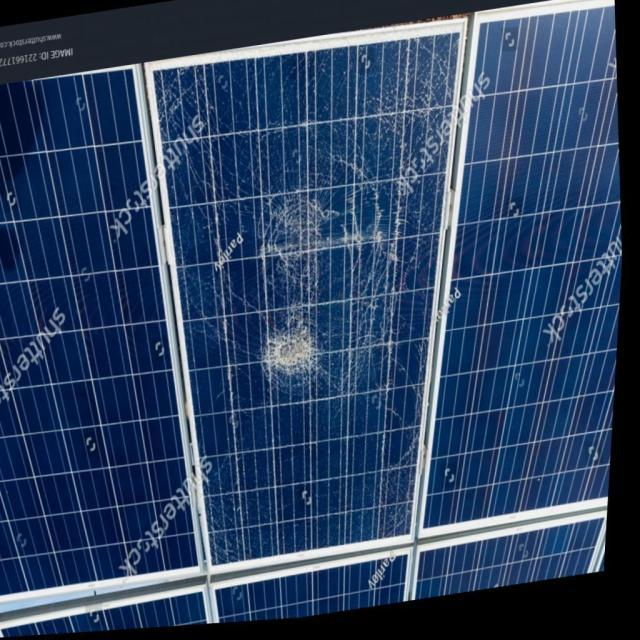cracked: (156, 20, 458, 568)
